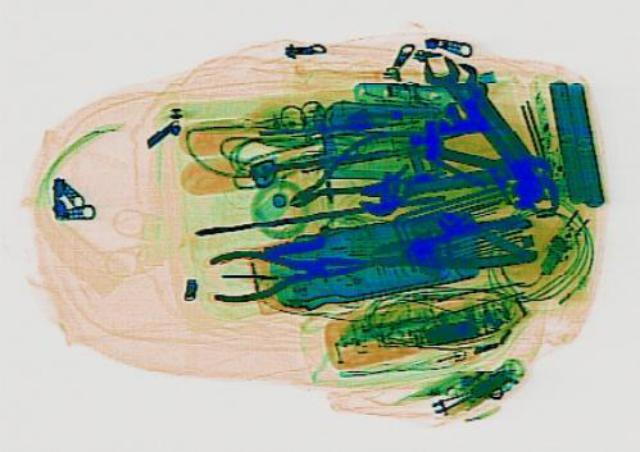Pliers: (266, 117, 442, 221), (362, 211, 540, 279), (200, 235, 374, 303)
Wrench: (410, 49, 534, 182), (426, 57, 544, 170), (352, 158, 540, 216)
